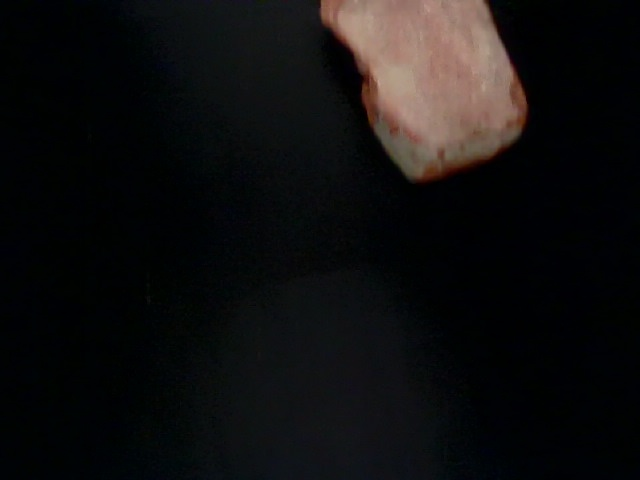KHSLJ: (17, 1, 346, 305)
